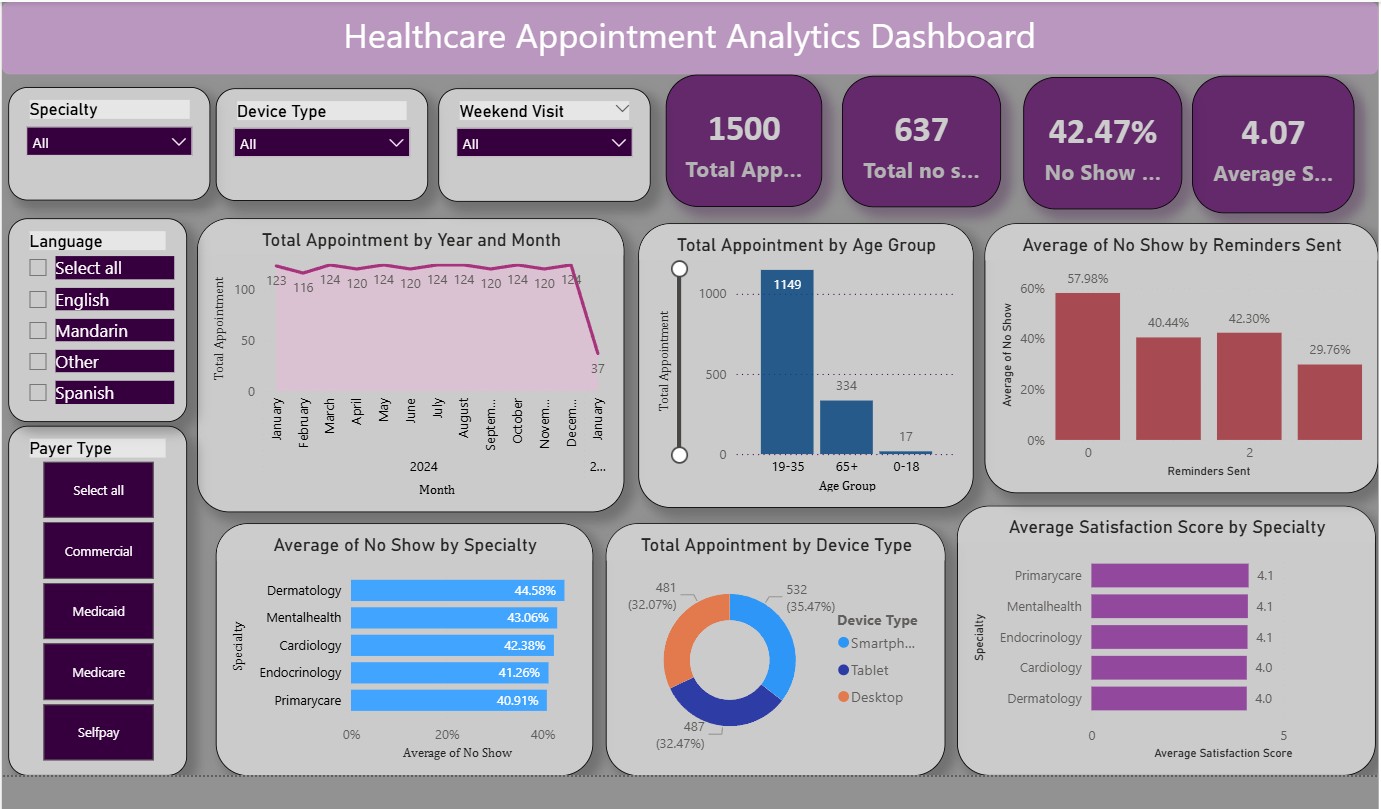

Layout of this report page (visuals, bound fields, positions):
{"tool":"powerbi","page":{"name":"Page 1","canvas":[1280,720],"ordinal":0},"visuals":[{"type":"card","fields":{"Values":["telehealth_appointments.Total Appointment"]},"box":[617.4,67.4,145.3,123.3],"z":0},{"type":"card","fields":{"Values":["Avg(telehealth_appointments.no_show)"]},"box":[950,69.8,147.7,123.3],"z":1000},{"type":"card","fields":{"Values":["telehealth_appointments.Total no shows"]},"box":[781.4,68.6,147.7,122.1],"z":2000},{"type":"card","fields":{"Values":["telehealth_appointments.Average Satisfaction Score"]},"box":[1107,68.6,151.2,127.9],"z":3000},{"type":"lineChart","fields":{"Y":["telehealth_appointments.Total Appointment"],"Category":["telehealth_appointments.scheduled_at.Variation.Date Hierarchy.Year","telehealth_appointments.scheduled_at.Variation.Date Hierarchy.Month"]},"box":[181.4,201.2,397.7,273.3],"z":4000},{"type":"clusteredBarChart","fields":{"Y":["Avg(telehealth_appointments.no_show)"],"Category":["telehealth_appointments.specialty"]},"box":[198.8,484.9,351.2,234.9],"z":5000},{"type":"clusteredColumnChart","fields":{"Category":["telehealth_appointments.Age Grouping"],"Y":["telehealth_appointments.Total Appointment"]},"box":[591.9,205.8,311.6,265.1],"z":6000},{"type":"donutChart","fields":{"Y":["telehealth_appointments.Total Appointment"],"Category":["telehealth_appointments.device_type"]},"box":[561.6,484.9,316.3,234.9],"z":7000},{"type":"barChart","fields":{"Y":["telehealth_appointments.Average Satisfaction Score"],"Category":["telehealth_appointments.specialty"]},"box":[888.4,468.6,389.5,251.2],"z":8000},{"type":"clusteredColumnChart","fields":{"Category":["telehealth_appointments.reminders_sent"],"Y":["Avg(telehealth_appointments.no_show)"]},"box":[914,205.8,366.3,251.2],"z":9000},{"type":"slicer","fields":{"Values":["telehealth_appointments.specialty"]},"box":[5.8,79.1,188.4,105.8],"z":10000},{"type":"slicer","fields":{"Values":["telehealth_appointments.device_type"]},"box":[198.8,80.2,197.7,104.7],"z":11000},{"type":"slicer","fields":{"Values":["telehealth_appointments.payer_type"]},"box":[5.8,394.2,166.3,325.6],"z":12000},{"type":"slicer","fields":{"Values":["telehealth_appointments.preferred_language"]},"box":[5.8,201.2,166.3,189.5],"z":13000},{"type":"slicer","fields":{"Values":["telehealth_appointments.weekend_visit"]},"box":[405.8,80.2,197.7,105.8],"z":14000},{"type":"textbox","box":[0,0,1280,67.5],"z":15000}]}

Visuals, with their boxes in screenshot pixels (x1, y1, x2, y2):
card - telehealth_appointments.Total Appointment: x1=657, y1=72, x2=812, y2=203
card - Avg(telehealth_appointments.no_show): x1=1011, y1=74, x2=1168, y2=205
card - telehealth_appointments.Total no shows: x1=831, y1=73, x2=989, y2=203
card - telehealth_appointments.Average Satisfaction Score: x1=1178, y1=73, x2=1339, y2=209
lineChart - telehealth_appointments.Total Appointment x telehealth_appointments.scheduled_at.Variation.Date Hierarchy.Year: x1=193, y1=214, x2=616, y2=505
clusteredBarChart - Avg(telehealth_appointments.no_show) x telehealth_appointments.specialty: x1=212, y1=516, x2=585, y2=766
clusteredColumnChart - telehealth_appointments.Age Grouping x telehealth_appointments.Total Appointment: x1=630, y1=219, x2=961, y2=501
donutChart - telehealth_appointments.Total Appointment x telehealth_appointments.device_type: x1=598, y1=516, x2=934, y2=766
barChart - telehealth_appointments.Average Satisfaction Score x telehealth_appointments.specialty: x1=945, y1=499, x2=1360, y2=766
clusteredColumnChart - telehealth_appointments.reminders_sent x Avg(telehealth_appointments.no_show): x1=972, y1=219, x2=1362, y2=486
slicer - telehealth_appointments.specialty: x1=6, y1=84, x2=207, y2=197
slicer - telehealth_appointments.device_type: x1=212, y1=85, x2=422, y2=197
slicer - telehealth_appointments.payer_type: x1=6, y1=419, x2=183, y2=766
slicer - telehealth_appointments.preferred_language: x1=6, y1=214, x2=183, y2=416
slicer - telehealth_appointments.weekend_visit: x1=432, y1=85, x2=642, y2=198
textbox: x1=0, y1=0, x2=1362, y2=72
